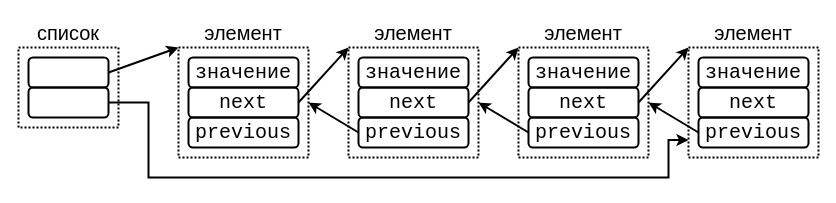
Image size: 836x203. Some labels were removed from this diagram. The shapes that lost their labels are listed below. From the top down, each one's centre as x and y in pixels, then its label:
the point at 68,72: head
the point at 68,102: tail
